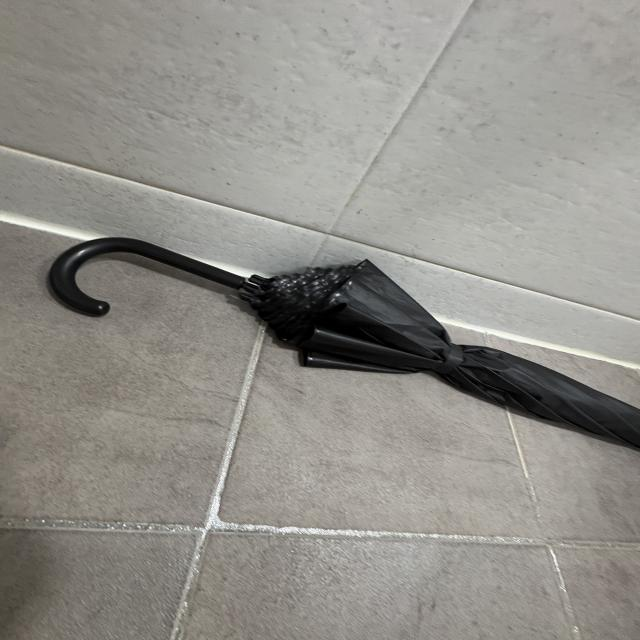umbrella: (53, 236, 640, 449)
